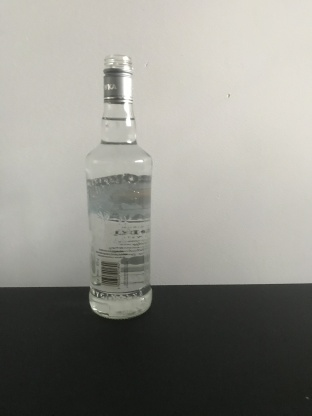nakretka: (101, 53, 134, 104)
